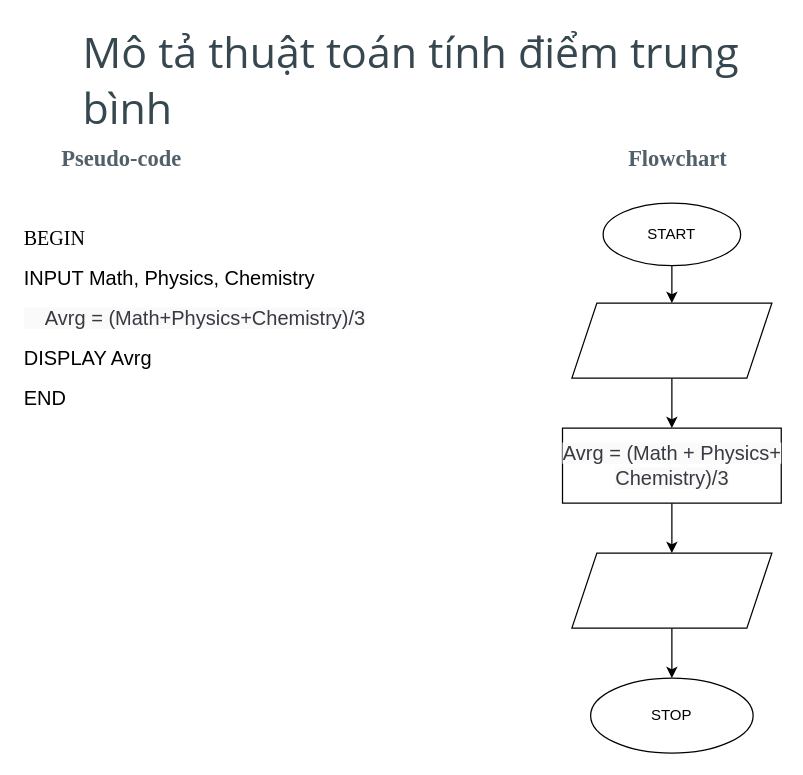
This 803x775 diagram has some shape labels left out. Here are the shapes that lost their labels. From the top down, the centre of each, then its label:
At pixel 671 340: "INPUT Math, Physics, Chemistry".
At pixel 671 590: "DISPLAY Avrg".
